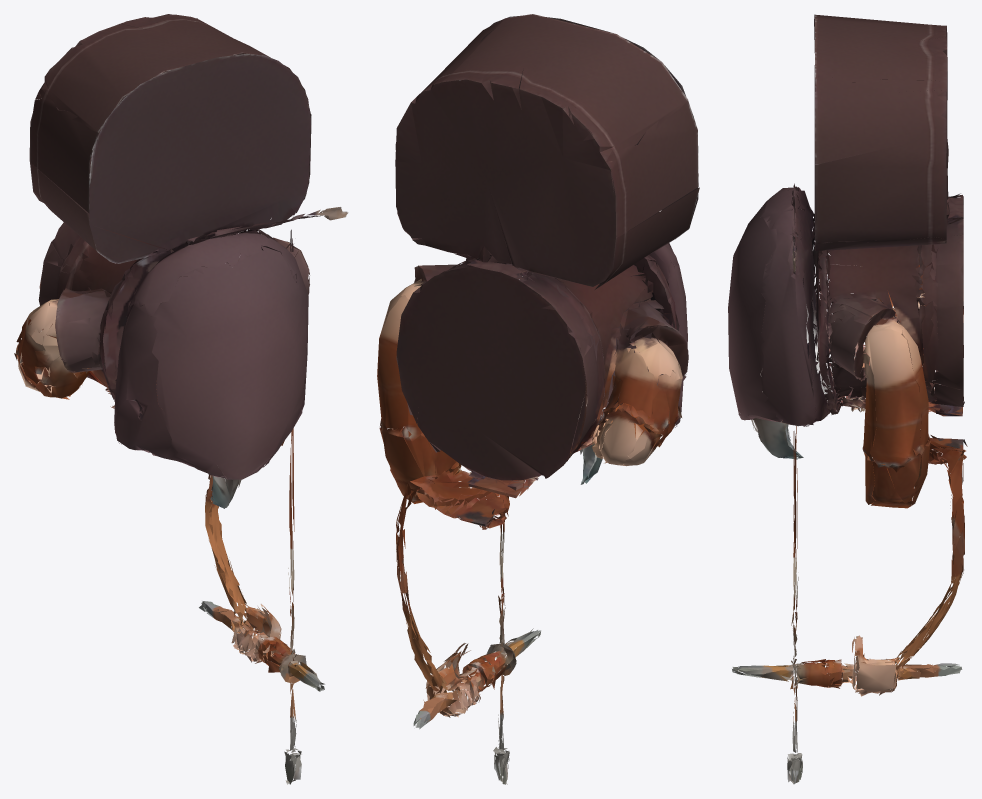
File: hero_archer_toon.glb
3 renders of one model, left to right at view 1: azimuth 30°, elevation 25°; view 2: azimuth 150°, elevation 25°; view 3: azimuth 270°, elevation 25°, orthographic. The views are drawn at different scales.
Parts seen in each view (by area): view 1: HeroArcher.001; view 2: HeroArcher.001; view 3: HeroArcher.001.
Part boxes in pixels (left/top/right/bottom): HeroArcher.001: left=14, top=14, right=348, bottom=784; HeroArcher.001: left=377, top=14, right=699, bottom=784; HeroArcher.001: left=728, top=14, right=967, bottom=784.
Size of the model in its own units: 0.7367 by 1.89 by 0.5775.
Materials: 1 (1 with a texture image).
